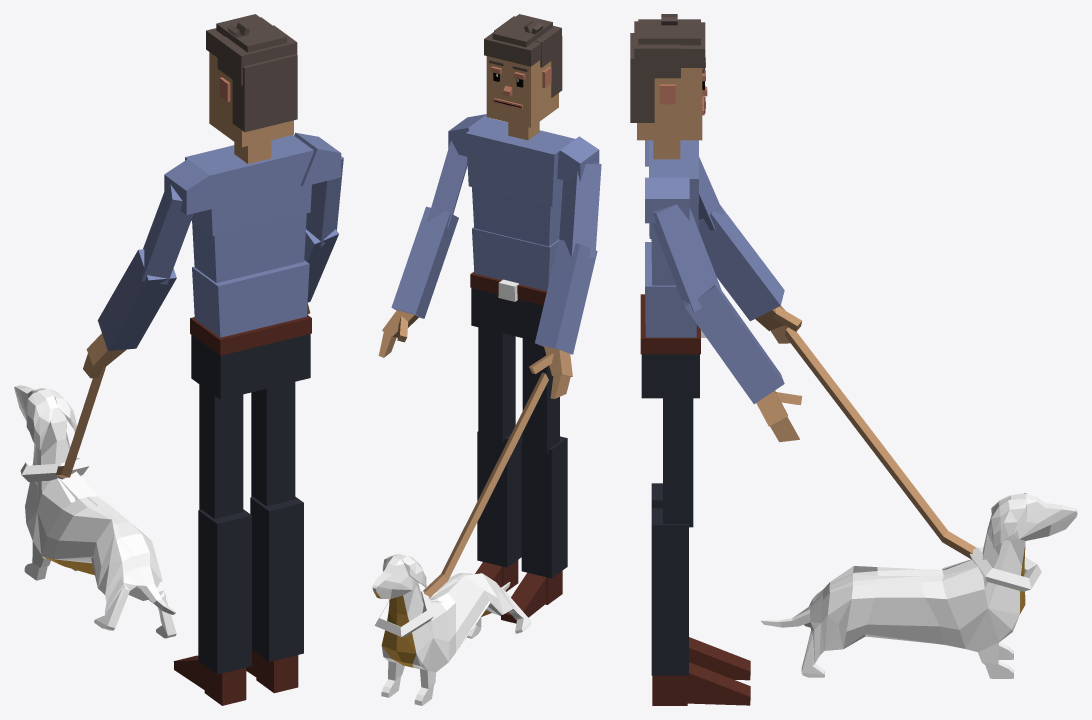
Rendered from ManwithDog.fbx.
3 renders of one model, left to right at view 1: azimuth 30°, elevation 25°; view 2: azimuth 150°, elevation 25°; view 3: azimuth 270°, elevation 25°, orthographic. The views are drawn at different scales.
Visible parts, largest first — view 1: Plane.001; view 2: Plane.001; view 3: Plane.001.
Part boxes in pixels (x1,y1,x2,y2): Plane.001: (14, 14, 343, 705); Plane.001: (372, 14, 601, 705); Plane.001: (630, 14, 1077, 705).
Bounding box in the file's own units: 70.78 × 208 × 127.
